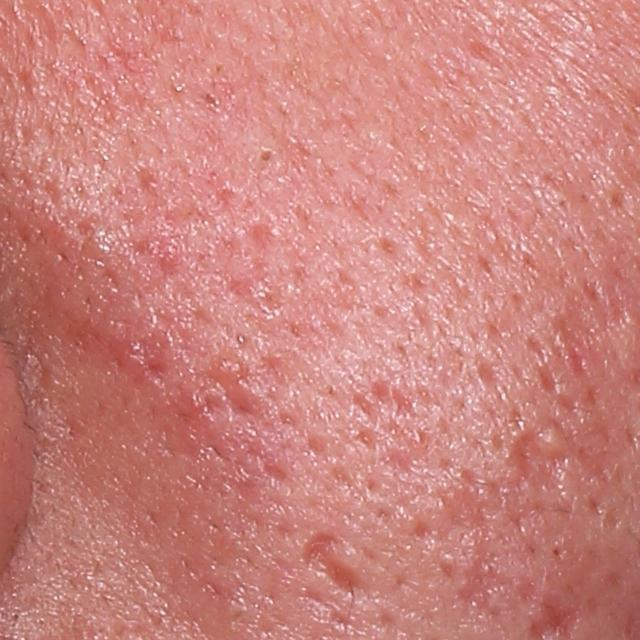atrophic_scar: (433, 468, 541, 625), (559, 206, 633, 338), (349, 374, 432, 476), (300, 531, 363, 603), (195, 362, 260, 424), (122, 302, 169, 387), (533, 356, 576, 424), (552, 321, 591, 386), (159, 193, 219, 234), (243, 217, 276, 250), (471, 355, 499, 389), (260, 456, 289, 488), (411, 522, 435, 549)
comedo: (255, 145, 273, 169)
